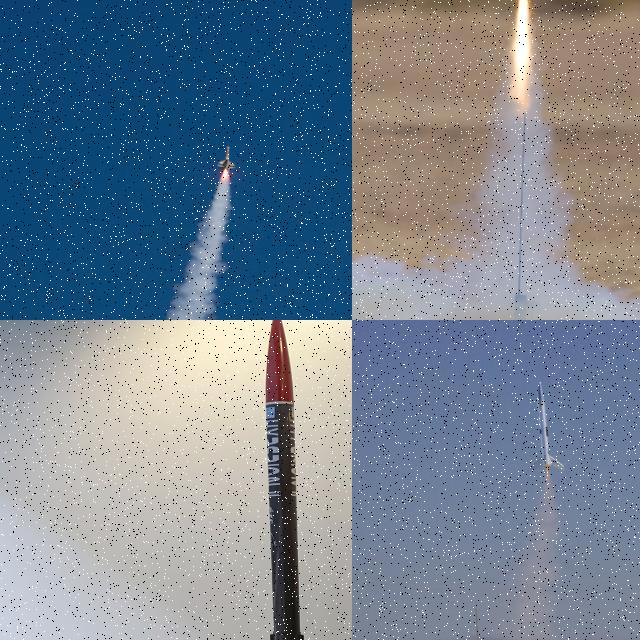Rocket: (265, 320, 304, 640), (528, 382, 568, 472), (217, 146, 236, 174)
